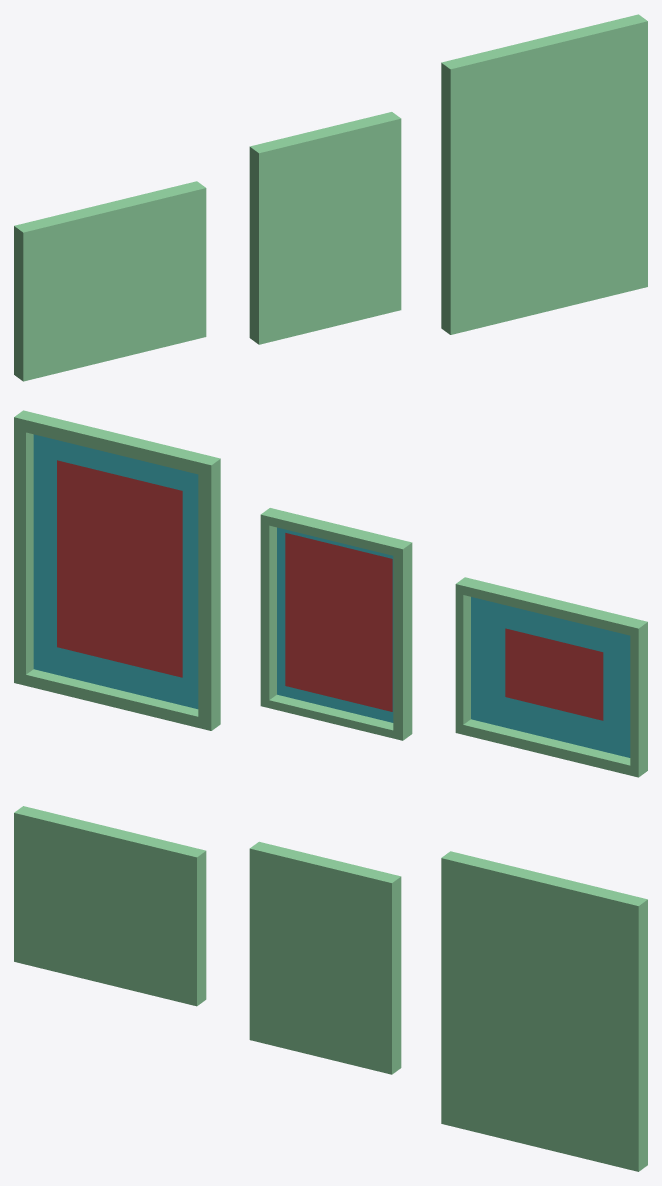
File: Props_frames.FBX
3 views of the same model, one above another, from view 1: azimuth 30°, elevation 25°; view 2: azimuth 150°, elevation 25°; view 3: azimuth 330°, elevation 25° (orthographic).
Visible parts, largest first — view 1: Props_frame_03, Props_frame_02, Props_frame_01; view 2: Props_frame_03, Props_frame_02, Props_frame_01; view 3: Props_frame_03, Props_frame_02, Props_frame_01.
Boxes of the visible parts, x1,y1,x2,y2 form: Props_frame_03: (441, 14, 647, 334); Props_frame_02: (249, 112, 401, 344); Props_frame_01: (14, 181, 206, 381); Props_frame_03: (14, 410, 220, 730); Props_frame_02: (260, 508, 412, 740); Props_frame_01: (455, 577, 647, 777); Props_frame_03: (441, 851, 647, 1171); Props_frame_02: (249, 841, 401, 1074); Props_frame_01: (14, 806, 206, 1006).
Bounding box in the file's own units: 75.22 × 1.95 × 30.58.
